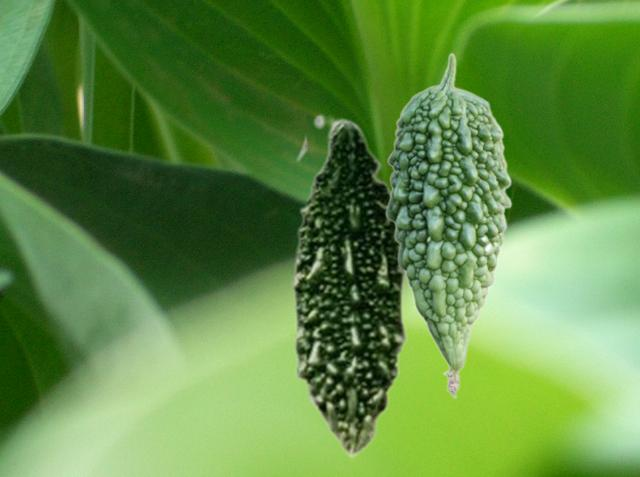ampalaya: (384, 52, 511, 398), (291, 113, 411, 459)
